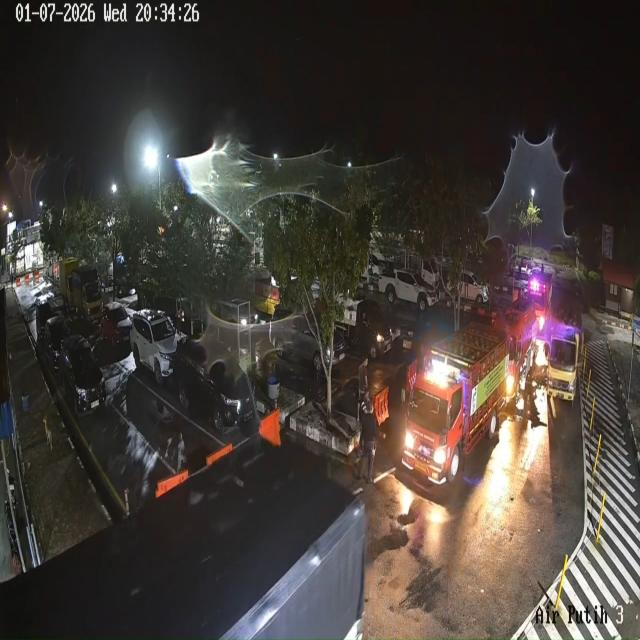Golongan IVA: (174, 340, 259, 434), (269, 305, 346, 374), (129, 310, 180, 386), (59, 334, 106, 416), (40, 315, 70, 371), (100, 302, 132, 346)
Golongan IVB: (378, 270, 439, 312)
Golongan VB: (402, 323, 509, 484), (494, 297, 538, 400), (547, 323, 580, 403), (63, 266, 103, 322)
